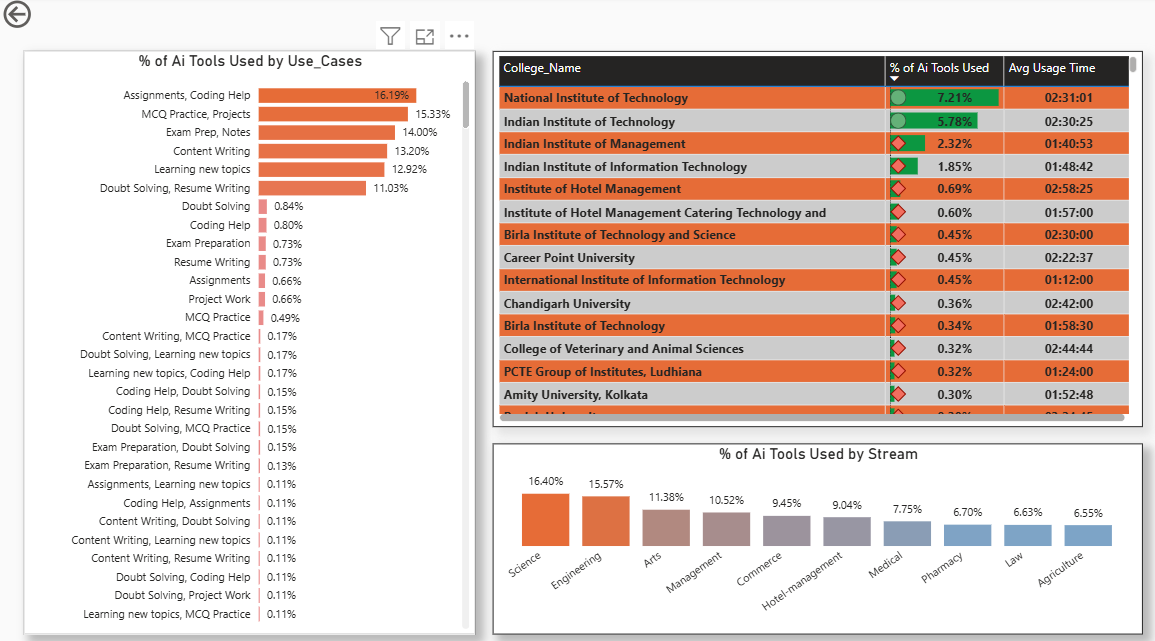

The page's visual inventory and layout, read from the dashboard file:
{"tool":"powerbi","page":{"name":"Page 1","canvas":[1280,720],"ordinal":1},"visuals":[{"type":"barChart","fields":{"Category":["Students.Use_Cases"],"Y":["Measures (2).% of Ai Tools Used"]},"box":[27.4,60.4,495.4,640.8],"z":0},{"type":"actionButton","box":[0,0,100,40],"z":1000},{"type":"columnChart","fields":{"Category":["Students.Stream"],"Y":["Measures (2).% of Ai Tools Used"]},"box":[542,491.3,713.6,209.9],"z":2000},{"type":"tableEx","fields":{"Values":["Students.College_Name","Measures (2).% of Ai Tools Used","Measures (2).// Average usage time measureAvg Usage Time"]},"box":[542,60.4,713.6,413],"z":3000}]}

Visuals, with their boxes on the page's 1280x720 design canvas (x1, y1, x2, y2). These are canvas units, not pixel positions in the 1155x641 screenshot, which may show the page scaled, cropped or inside an application window:
barChart - Students.Use_Cases x Measures (2).% of Ai Tools Used: box=[27, 60, 523, 701]
actionButton: box=[0, 0, 100, 40]
columnChart - Students.Stream x Measures (2).% of Ai Tools Used: box=[542, 491, 1256, 701]
tableEx - Students.College_Name x Measures (2).% of Ai Tools Used: box=[542, 60, 1256, 473]
